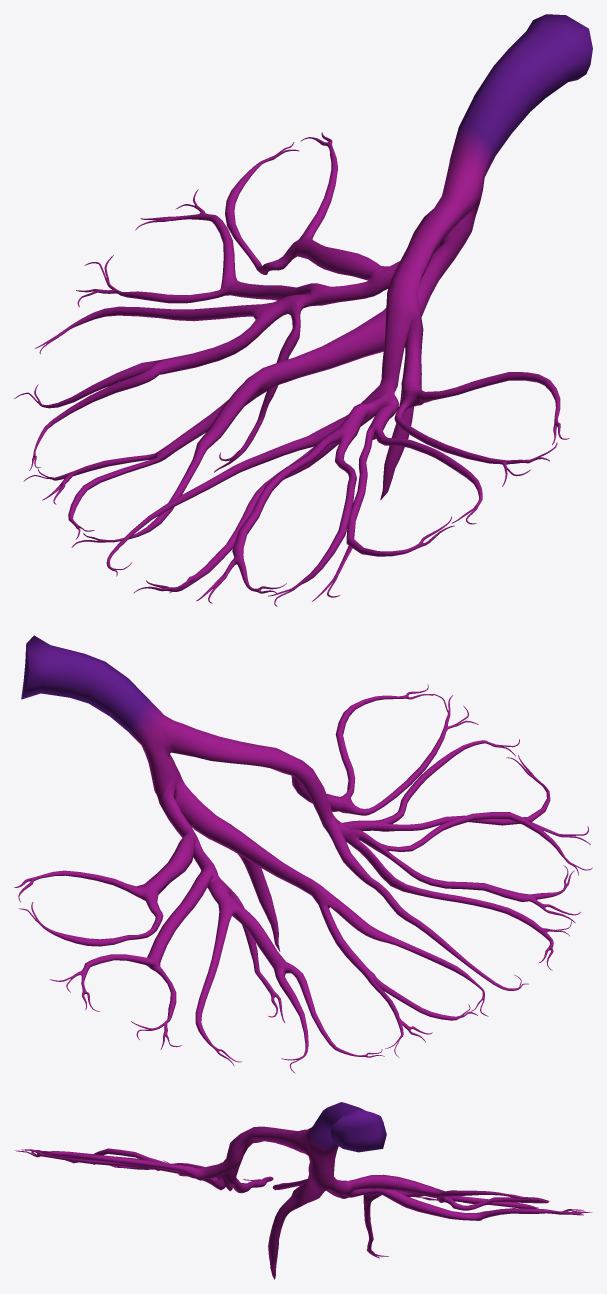
The model's file is Right_Renal_vein.fbx.
The picture shows the model from 3 angles, top to bottom: view 1: azimuth 30°, elevation 25°; view 2: azimuth 150°, elevation 25°; view 3: azimuth 270°, elevation 25°; orthographic projection. The views are drawn at different scales.
Visible parts, largest first — view 1: Right_Renal_vein; view 2: Right_Renal_vein; view 3: Right_Renal_vein.
Boxes of the visible parts, left/top/right/bottom form: Right_Renal_vein: left=14, top=14, right=592, bottom=606; Right_Renal_vein: left=14, top=635, right=592, bottom=1073; Right_Renal_vein: left=15, top=1102, right=592, bottom=1279.
Size of the model in its own units: 71.28 by 47.32 by 98.46.
